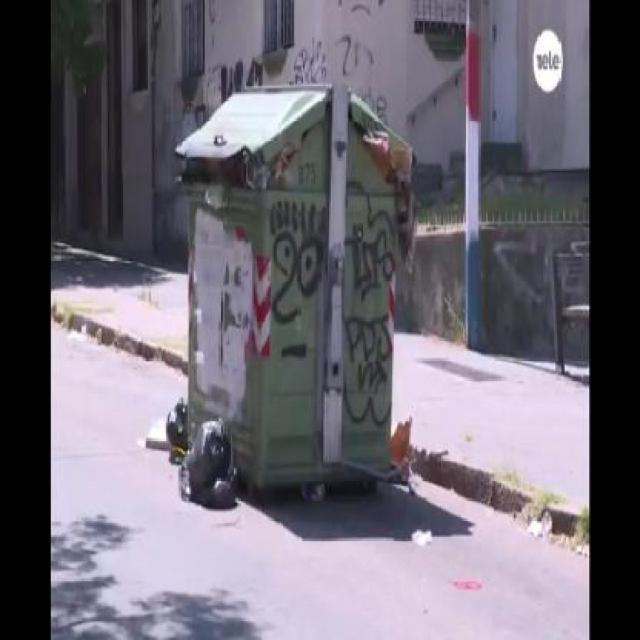garbage: (143, 394, 240, 514), (366, 123, 422, 273), (391, 415, 436, 550), (183, 143, 297, 190), (525, 506, 561, 544), (299, 468, 336, 502)
